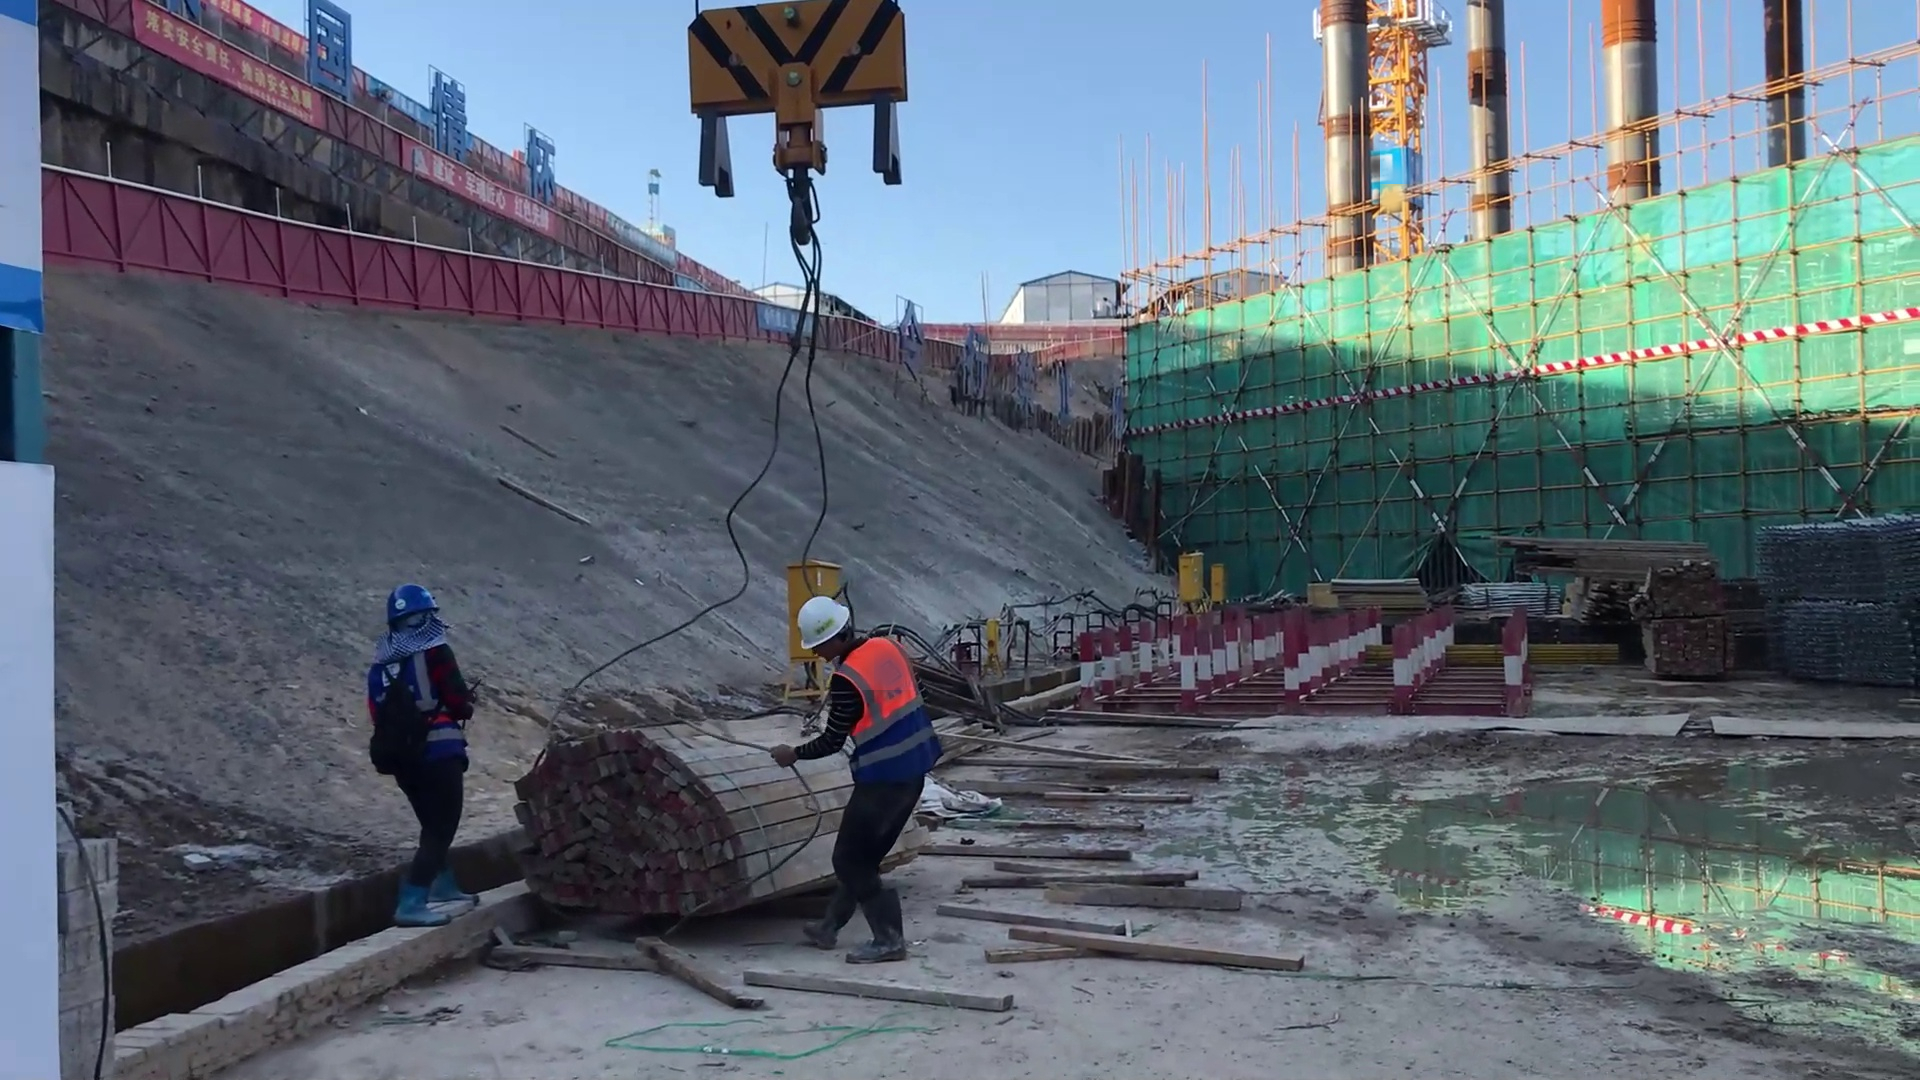ebox: (1179, 554, 1204, 597), (1210, 563, 1222, 603)
fence: (44, 171, 471, 311), (488, 267, 766, 349)
helmet: (352, 576, 447, 641), (777, 583, 843, 652)
hook: (677, 8, 929, 179)
person: (778, 590, 927, 977), (356, 574, 491, 929)
scaffold: (1755, 512, 1915, 713)
slogan: (93, 8, 373, 175)
vest: (826, 647, 933, 771)
wood: (955, 682, 1329, 1002), (517, 727, 755, 931), (1482, 531, 1715, 587)
